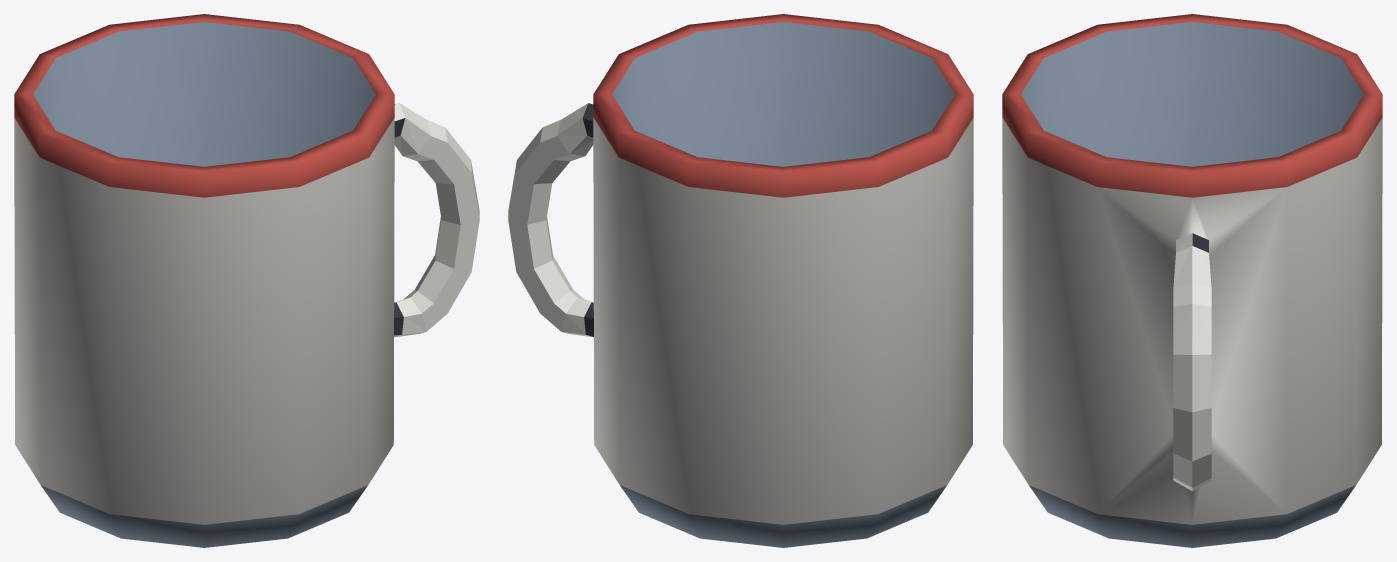
File: ceramic_mug.glb
The picture shows the model from 3 angles, left to right: view 1: azimuth 30°, elevation 25°; view 2: azimuth 150°, elevation 25°; view 3: azimuth 270°, elevation 25°; orthographic projection.
Visible parts, largest first — view 1: ceramic_mug; view 2: ceramic_mug; view 3: ceramic_mug.
Part boxes in pixels (box(x1,y1,x2,y2)): ceramic_mug: box(14, 14, 479, 547); ceramic_mug: box(508, 14, 973, 547); ceramic_mug: box(1002, 14, 1382, 547).
Bounding box in the file's own units: 0.12 × 0.0998 × 0.0899.
